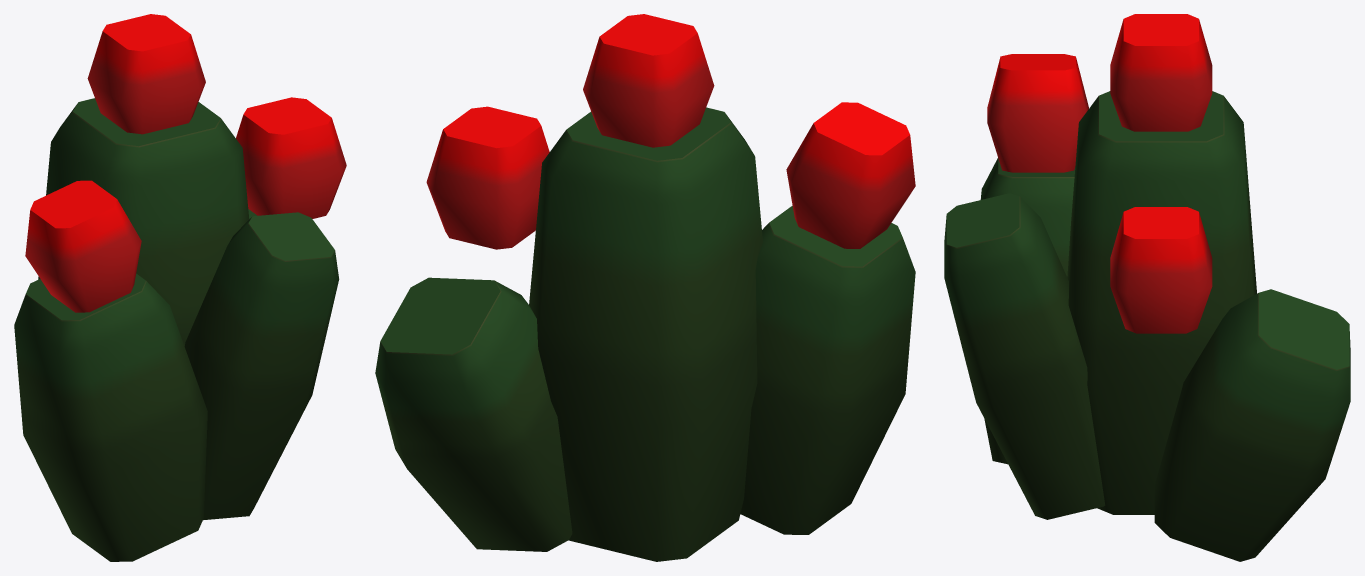
File: cactus_v063.fbx
The picture shows the model from 3 angles, left to right: view 1: azimuth 30°, elevation 25°; view 2: azimuth 150°, elevation 25°; view 3: azimuth 270°, elevation 25°; orthographic projection. The views are drawn at different scales.
Parts seen in each view (by area): view 1: cactus_v063; view 2: cactus_v063; view 3: cactus_v063.
Part boxes in pixels (x1,y1,x2,y2): cactus_v063: (14, 14, 346, 561); cactus_v063: (375, 14, 915, 561); cactus_v063: (944, 14, 1350, 561).
Size of the model in its own units: 146 by 183 by 143.
